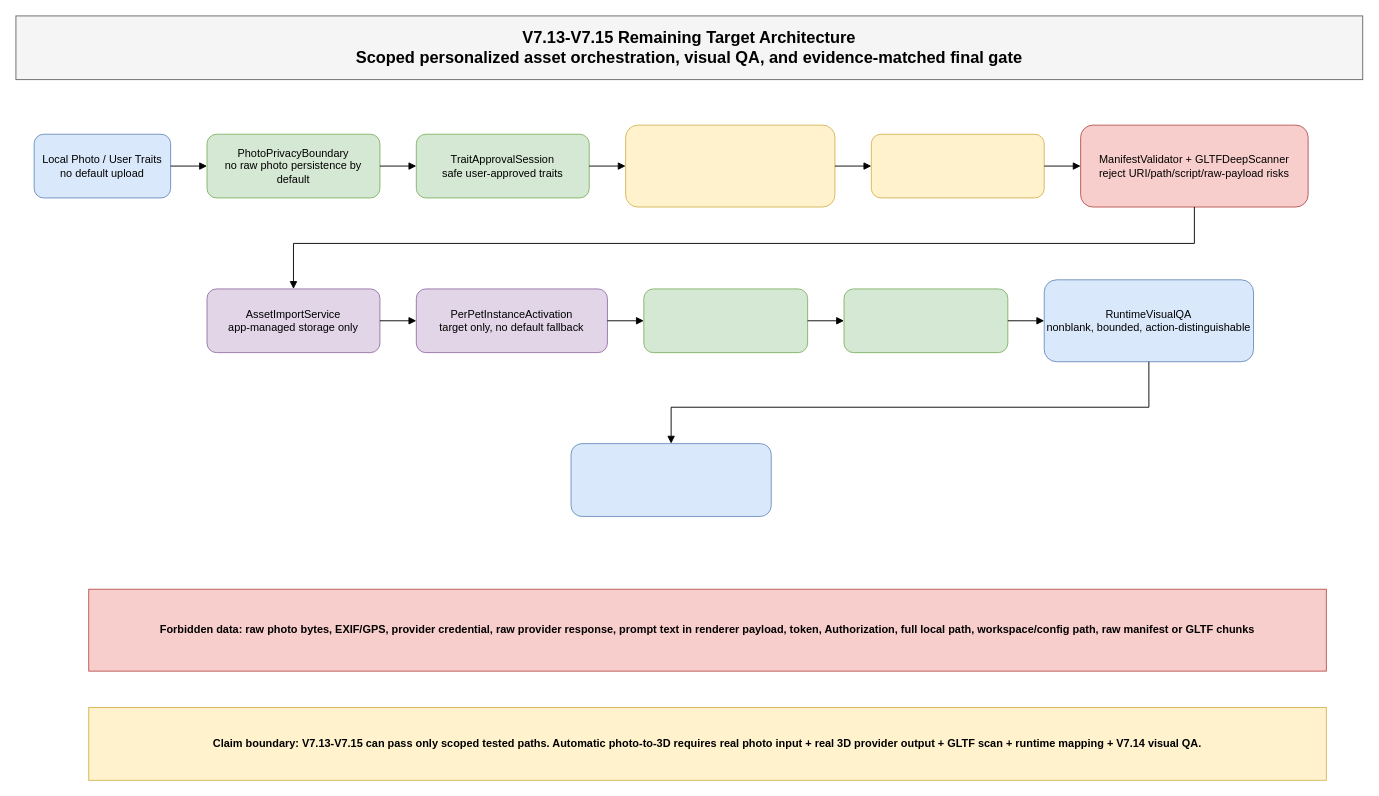
The diagram is 1379 pixels wide and 796 high, and some of its shapes have lost their labels. The shapes that lost their labels are listed below. From the top down, each one's centre as x and y in pixels, then its label:
pixel 730 165: PromptPack / ProviderConsentBoundary explicit consent, redacted credential state
pixel 957 165: GeneratedAssetStaging validation before runtime
pixel 725 320: CatActionResolver safe action IDs
pixel 925 320: RendererRegistry safe renderer kind
pixel 670 479: EvidenceCollector sanitized reports and screenshots
